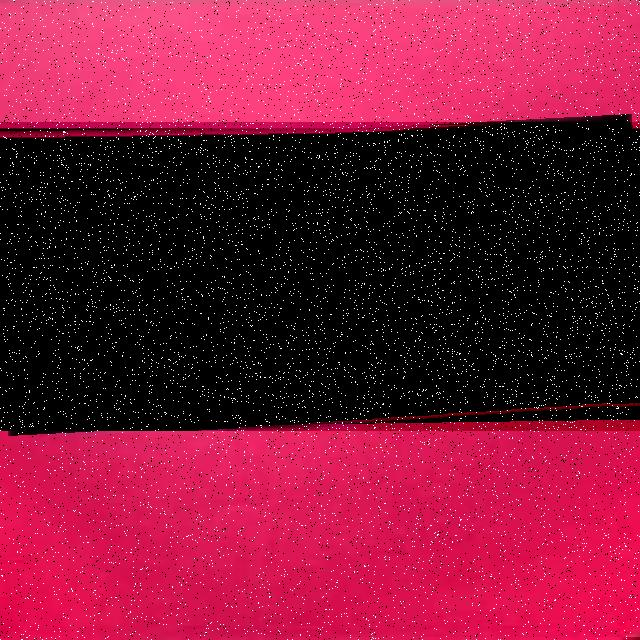dua ribu rupiah: (0, 122, 640, 431)
